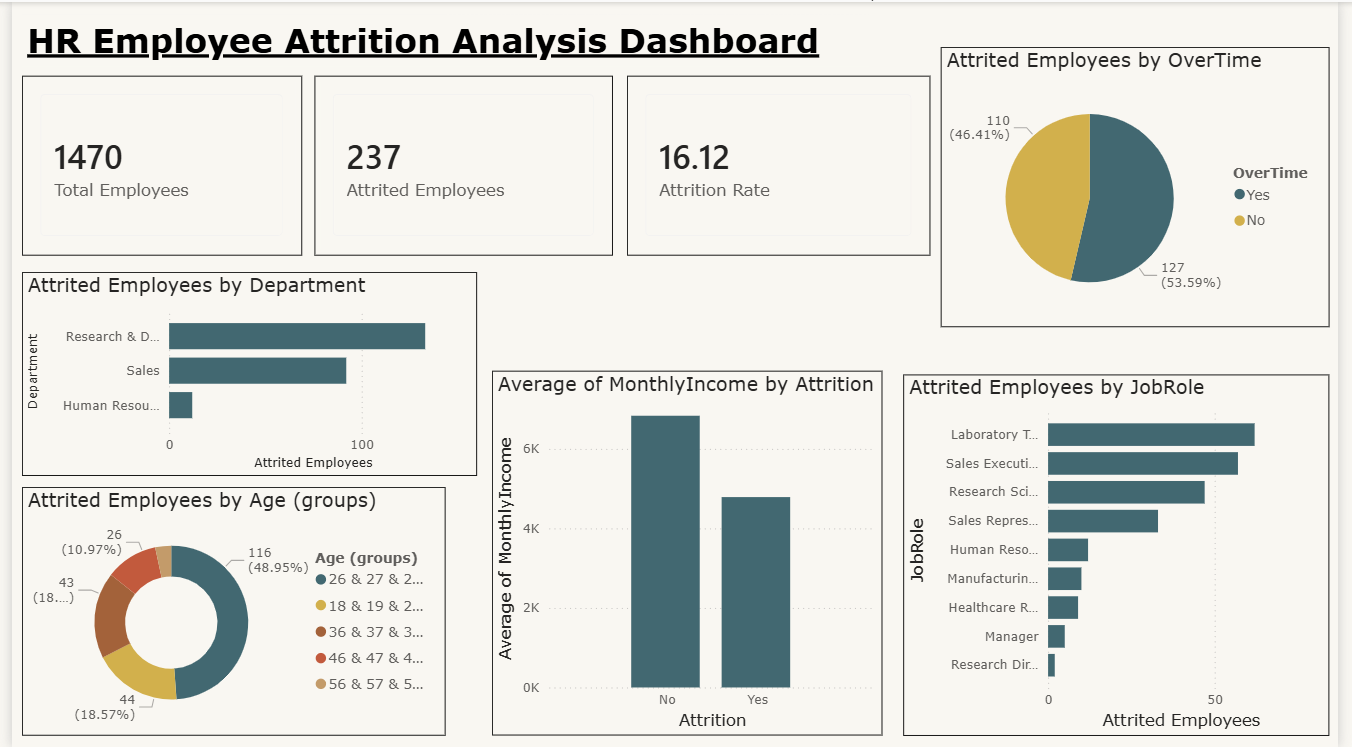

This screenshot's page, from the dashboard's own definition file:
{"tool":"powerbi","page":{"name":"Page 1","canvas":[1280,720],"ordinal":0},"visuals":[{"type":"cardVisual","fields":{"Data":["WA_Fn-UseC_-HR-Employee-Attrition.Total Employees"]},"box":[9.7,71.2,270.2,173.7],"z":0},{"type":"cardVisual","fields":{"Data":["WA_Fn-UseC_-HR-Employee-Attrition.Attrited Employees"]},"box":[292,71.2,288.3,173.7],"z":1000},{"type":"cardVisual","fields":{"Data":["WA_Fn-UseC_-HR-Employee-Attrition.ttrition Rate"]},"box":[593.6,71.2,293.2,173.7],"z":2000},{"type":"clusteredBarChart","fields":{"Category":["WA_Fn-UseC_-HR-Employee-Attrition.Department"],"Y":["WA_Fn-UseC_-HR-Employee-Attrition.Attrited Employees"]},"box":[9.7,260.6,439.1,196.6],"z":3000},{"type":"donutChart","fields":{"Y":["WA_Fn-UseC_-HR-Employee-Attrition.Attrited Employees"],"Category":["WA_Fn-UseC_-HR-Employee-Attrition.Age (groups)"]},"box":[9.7,468.1,409,240.1],"z":4000},{"type":"clusteredBarChart","fields":{"Y":["WA_Fn-UseC_-HR-Employee-Attrition.Attrited Employees"],"Category":["WA_Fn-UseC_-HR-Employee-Attrition.JobRole"]},"box":[860.2,359.5,411.4,348.7],"z":5000},{"type":"pieChart","fields":{"Category":["WA_Fn-UseC_-HR-Employee-Attrition.OverTime"],"Y":["WA_Fn-UseC_-HR-Employee-Attrition.Attrited Employees"]},"box":[896.4,43.4,375.2,270.2],"z":6000},{"type":"clusteredColumnChart","fields":{"Y":["Avg(WA_Fn-UseC_-HR-Employee-Attrition.MonthlyIncome)"],"Category":["WA_Fn-UseC_-HR-Employee-Attrition.Attrition"]},"box":[463.3,355.9,376.4,352.3],"z":7000},{"type":"textbox","box":[9.7,12.1,818,50.7],"z":8000}]}

Visuals, with their boxes in screenshot pixels (x1, y1, x2, y2), scaled from the page's 1280x720 canvas onto the 1352x747 screenshot:
cardVisual - WA_Fn-UseC_-HR-Employee-Attrition.Total Employees: {"left": 10, "top": 74, "right": 296, "bottom": 254}
cardVisual - WA_Fn-UseC_-HR-Employee-Attrition.Attrited Employees: {"left": 308, "top": 74, "right": 613, "bottom": 254}
cardVisual - WA_Fn-UseC_-HR-Employee-Attrition.ttrition Rate: {"left": 627, "top": 74, "right": 937, "bottom": 254}
clusteredBarChart - WA_Fn-UseC_-HR-Employee-Attrition.Department x WA_Fn-UseC_-HR-Employee-Attrition.Attrited Employees: {"left": 10, "top": 270, "right": 474, "bottom": 474}
donutChart - WA_Fn-UseC_-HR-Employee-Attrition.Attrited Employees x WA_Fn-UseC_-HR-Employee-Attrition.Age (groups): {"left": 10, "top": 486, "right": 442, "bottom": 735}
clusteredBarChart - WA_Fn-UseC_-HR-Employee-Attrition.Attrited Employees x WA_Fn-UseC_-HR-Employee-Attrition.JobRole: {"left": 909, "top": 373, "right": 1343, "bottom": 735}
pieChart - WA_Fn-UseC_-HR-Employee-Attrition.OverTime x WA_Fn-UseC_-HR-Employee-Attrition.Attrited Employees: {"left": 947, "top": 45, "right": 1343, "bottom": 325}
clusteredColumnChart - Avg(WA_Fn-UseC_-HR-Employee-Attrition.MonthlyIncome) x WA_Fn-UseC_-HR-Employee-Attrition.Attrition: {"left": 489, "top": 369, "right": 887, "bottom": 735}
textbox: {"left": 10, "top": 13, "right": 874, "bottom": 65}
